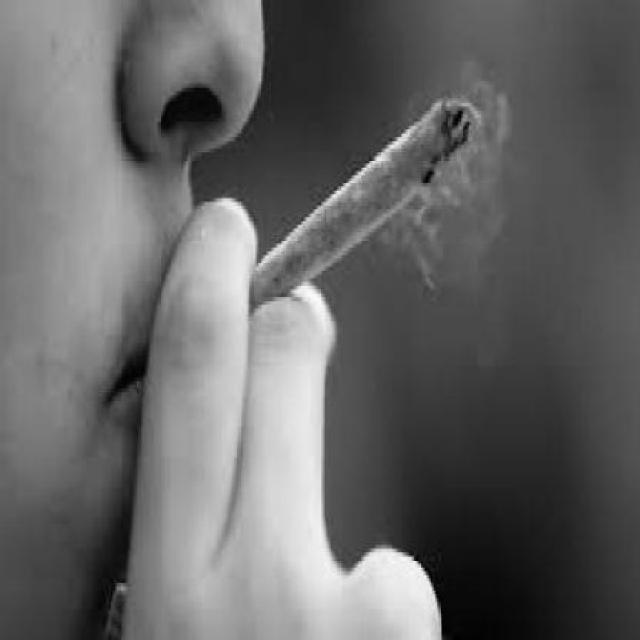smoke: (250, 92, 476, 305)
